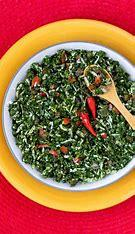Gotukola Mallum: (8, 53, 133, 195)
